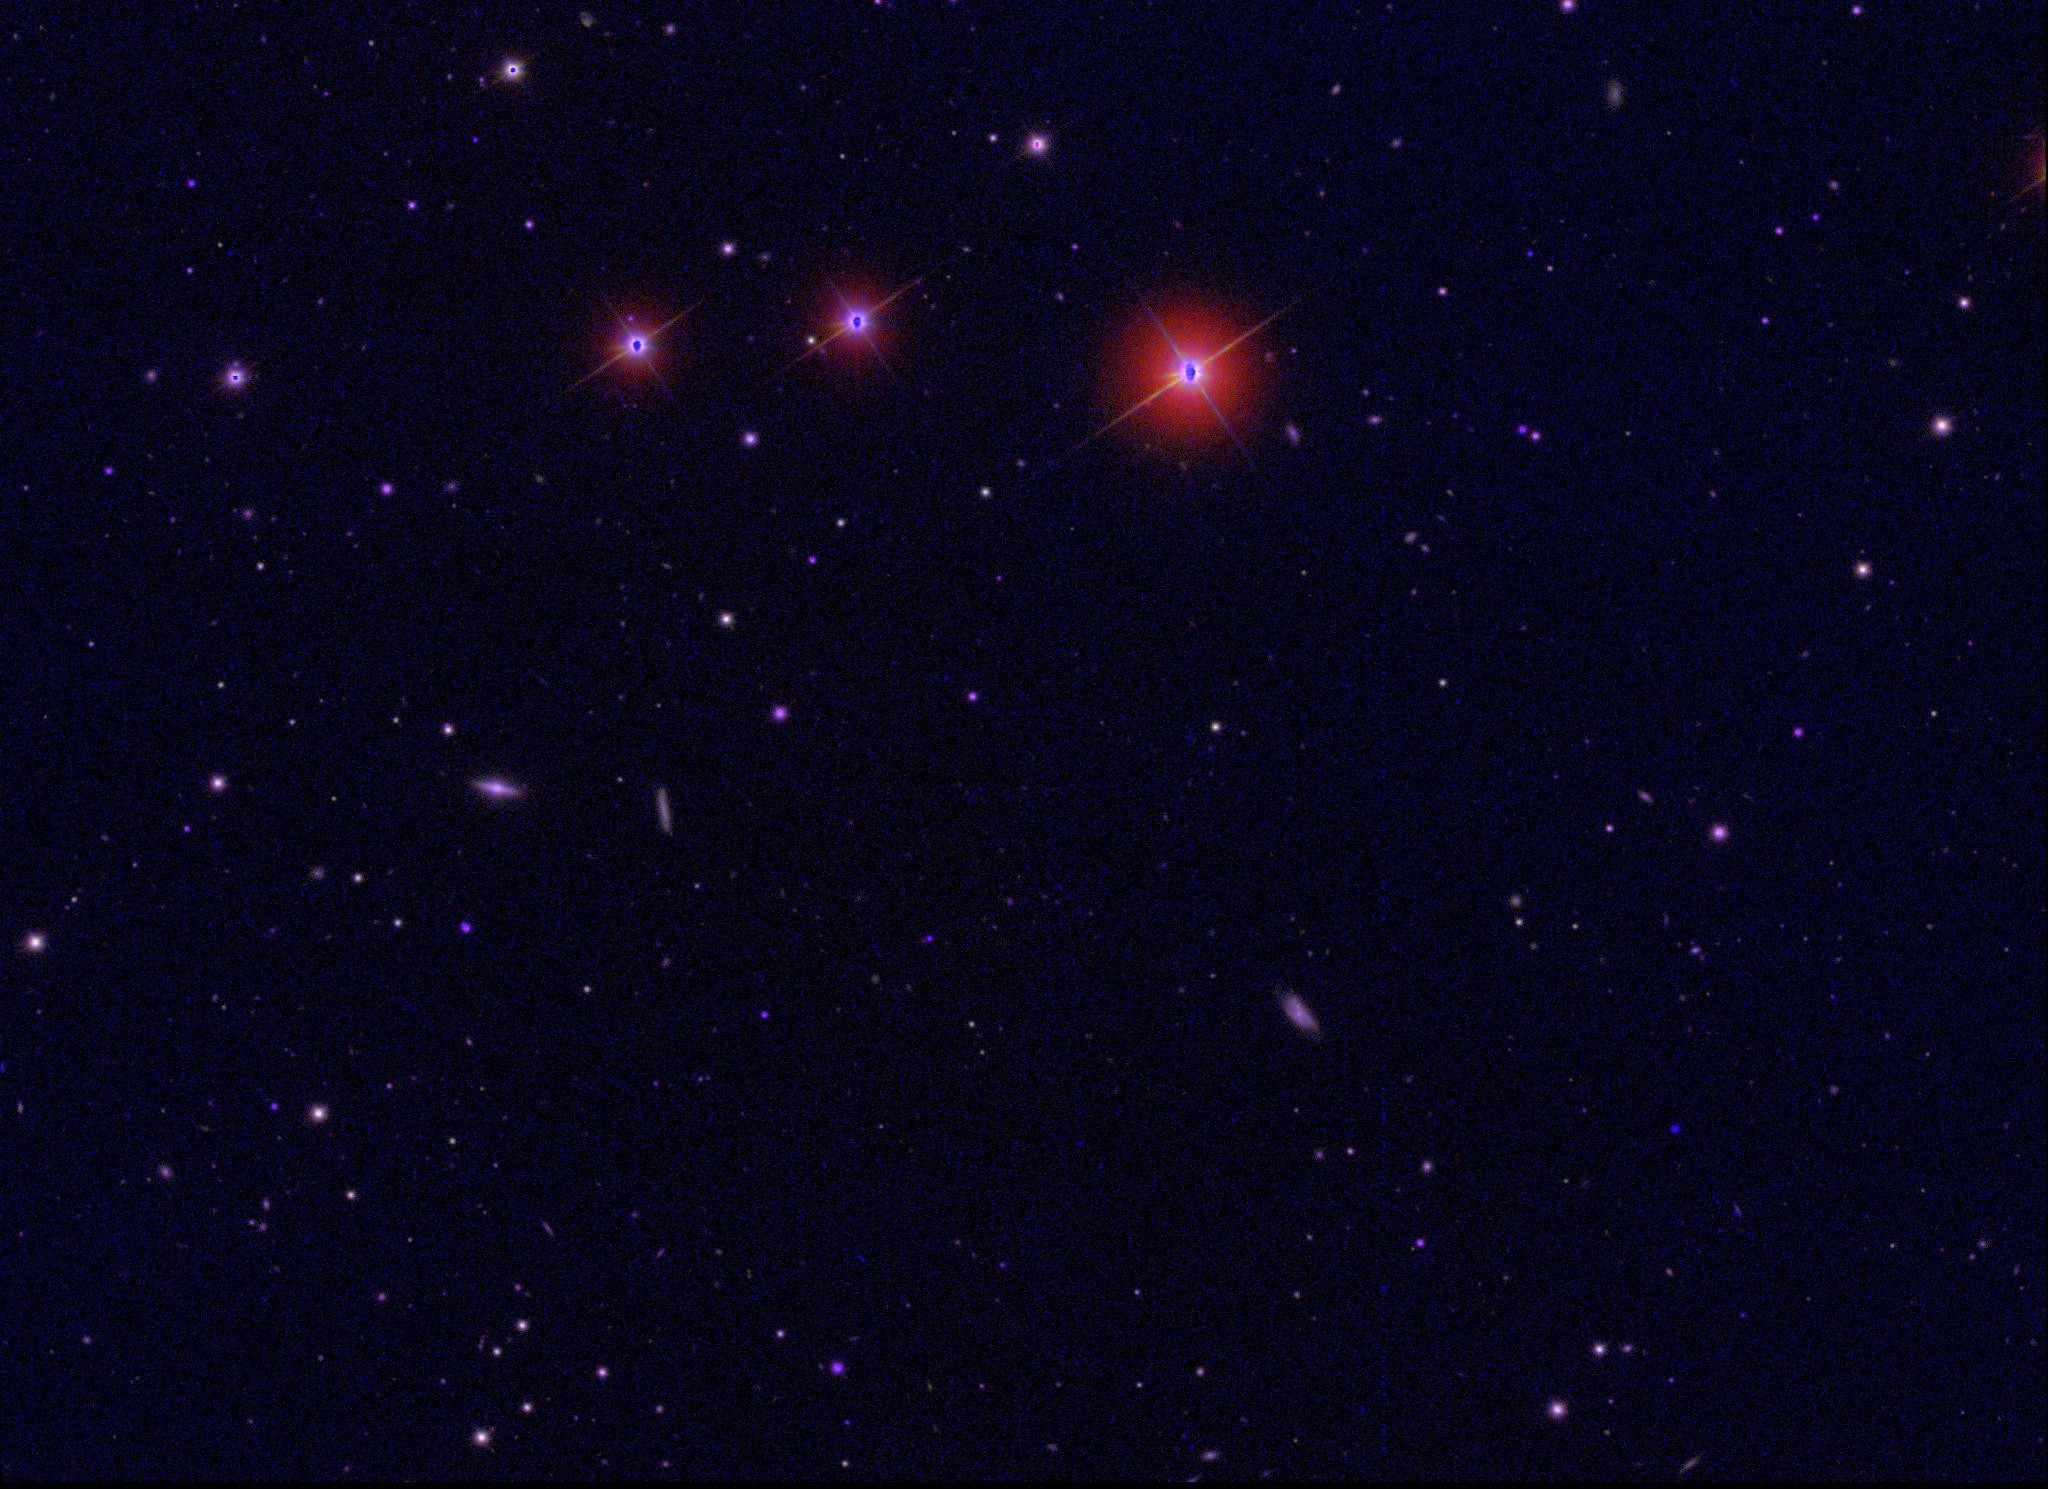L: (1668, 1122, 1682, 1136)
